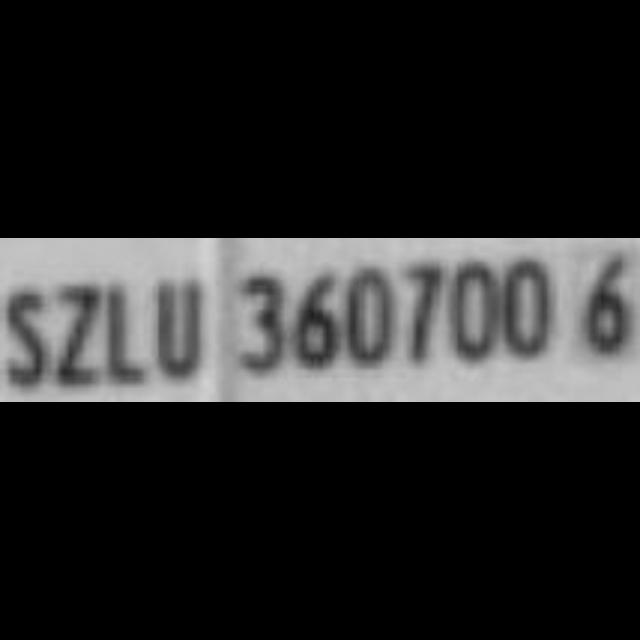0: (502, 252, 556, 368), (342, 262, 396, 372), (446, 256, 500, 364)
3: (228, 268, 286, 378)
6: (574, 245, 640, 373), (288, 266, 342, 376)
7: (395, 260, 447, 368)
l: (101, 276, 150, 394)
s: (0, 284, 48, 402)
u: (154, 273, 210, 389)
z: (50, 276, 109, 392)
